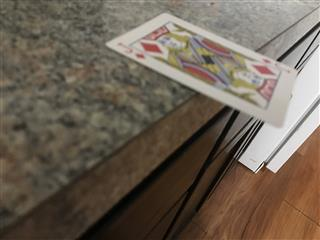JackOfDiamonds: (104, 12, 298, 128)
